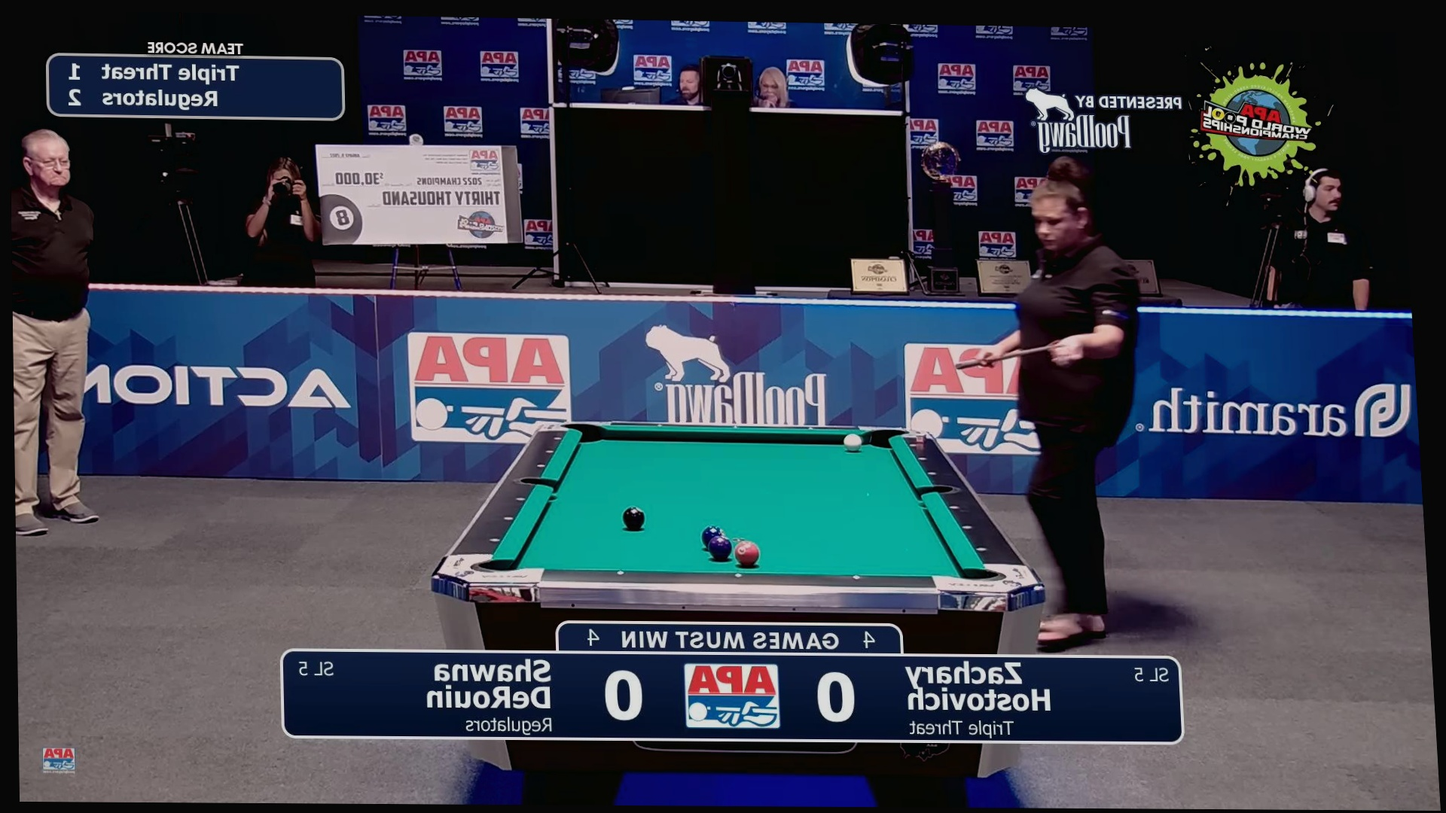Black: (623, 506, 646, 531)
Cue: (843, 433, 862, 451)
Solid: (948, 503, 959, 511), (908, 441, 919, 449), (730, 423, 741, 431), (851, 574, 862, 582), (976, 545, 986, 553), (928, 469, 938, 477), (918, 454, 928, 462), (545, 448, 555, 456), (516, 495, 526, 503), (734, 571, 744, 579), (961, 523, 972, 530), (489, 537, 500, 544), (806, 425, 816, 432), (655, 422, 665, 429), (553, 435, 563, 442), (537, 462, 547, 469), (504, 515, 514, 522), (616, 569, 626, 576)
Striped: (735, 540, 760, 567), (707, 535, 732, 561), (701, 525, 724, 550)
